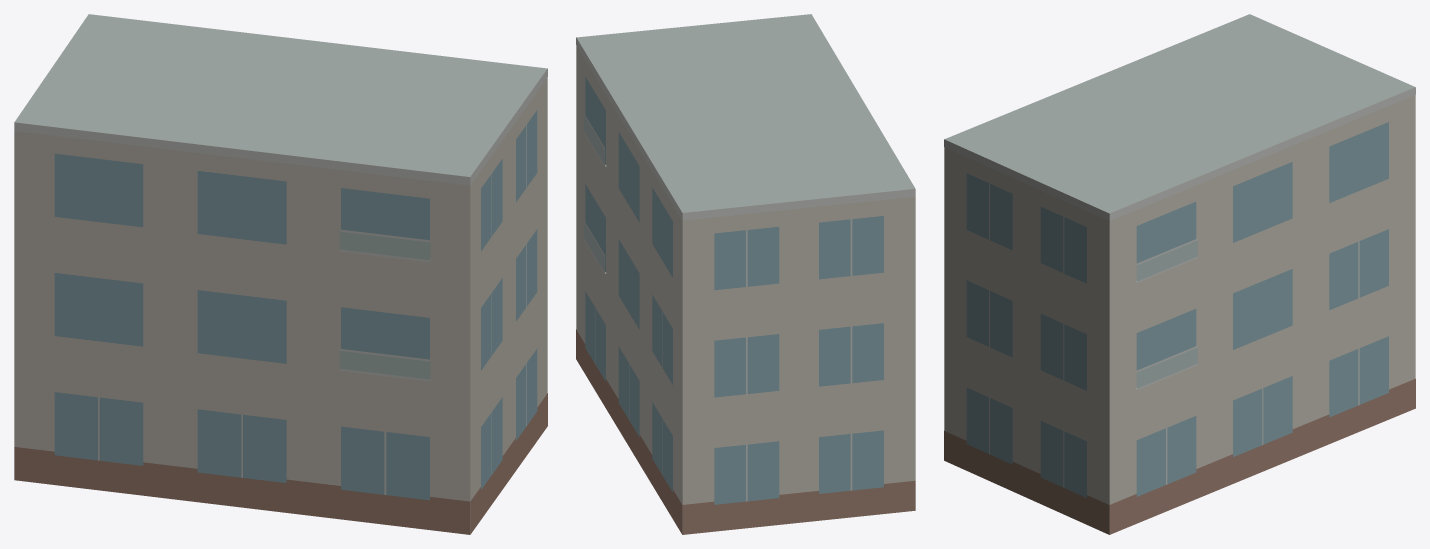
Rendered from survey-upis-32901747.glb.
The picture shows the model from 3 angles, left to right: view 1: azimuth 30°, elevation 25°; view 2: azimuth 150°, elevation 25°; view 3: azimuth 270°, elevation 25°; orthographic projection. The views are drawn at different scales.
Parts seen in each view (by area): view 1: survey-upis-32901747.tmp; view 2: survey-upis-32901747.tmp; view 3: survey-upis-32901747.tmp.
Part boxes in pixels (x1,y1,x2,y2): survey-upis-32901747.tmp: [14, 14, 547, 534]; survey-upis-32901747.tmp: [576, 14, 915, 534]; survey-upis-32901747.tmp: [944, 14, 1415, 534].
Bounding box in the file's own units: 13.59 × 10.2 × 13.57.
